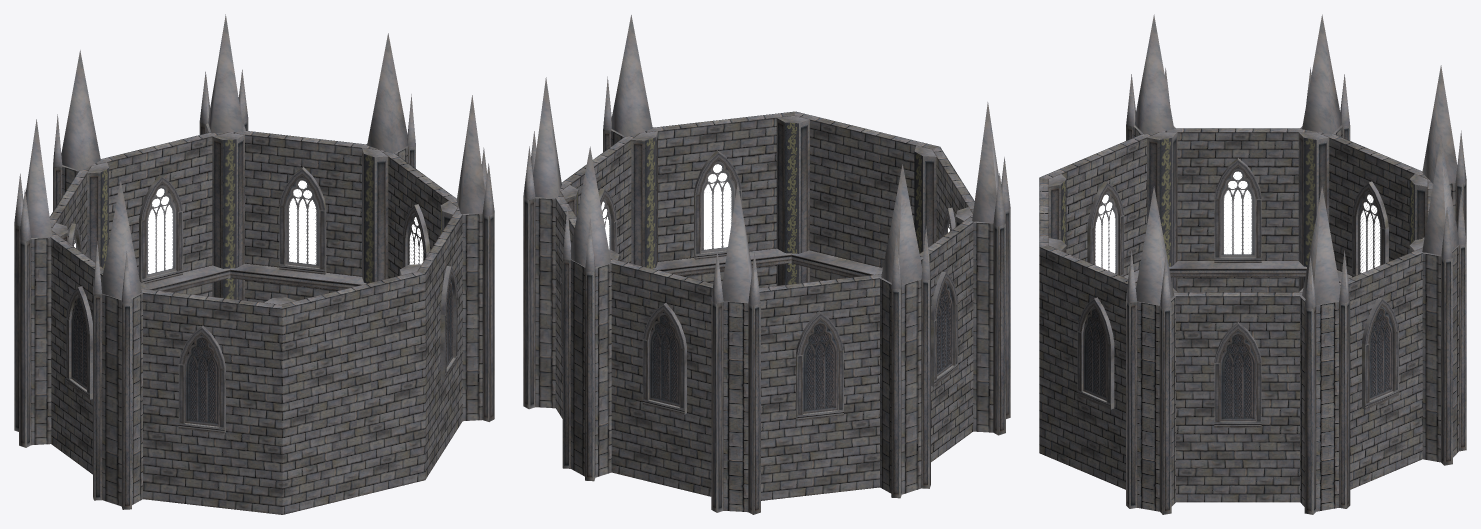
The model's file is sanctum_upper_01.glb.
The picture shows the model from 3 angles, left to right: view 1: azimuth 30°, elevation 25°; view 2: azimuth 150°, elevation 25°; view 3: azimuth 270°, elevation 25°; orthographic projection.
Visible parts, largest first — view 1: sanctum_upper_01; view 2: sanctum_upper_01; view 3: sanctum_upper_01.
Boxes of the visible parts, x1=… form: sanctum_upper_01: x1=14, y1=14, x2=494, y2=514; sanctum_upper_01: x1=523, y1=15, x2=1010, y2=514; sanctum_upper_01: x1=1039, y1=14, x2=1466, y2=514.
Bounding box in the file's own units: 48.28 × 37.13 × 45.14.
Materials: 2 (2 with a texture image).
